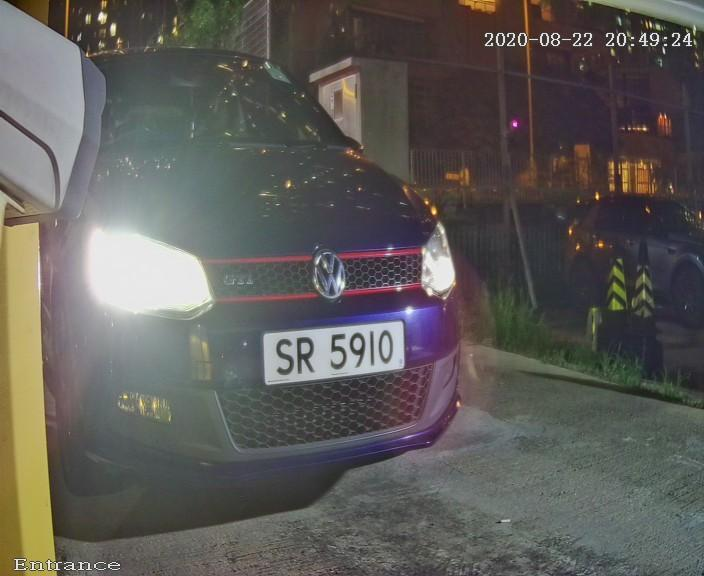Car: (1, 16, 491, 505)
License Plate: (236, 300, 430, 405)
